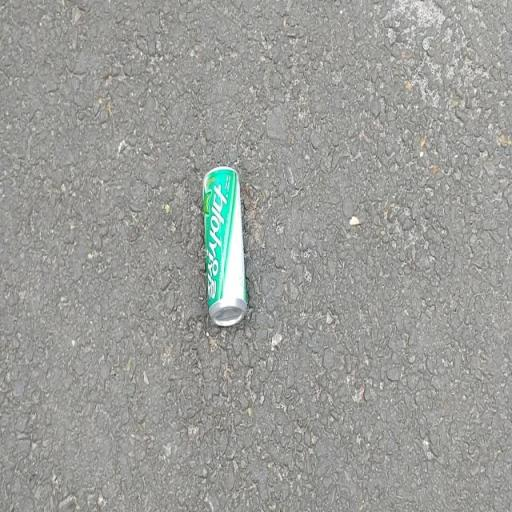metal: (172, 142, 284, 351)
